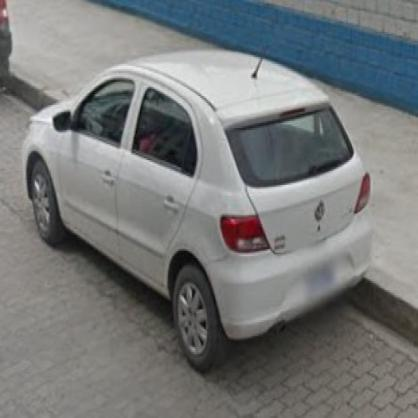car: (17, 50, 376, 368)
